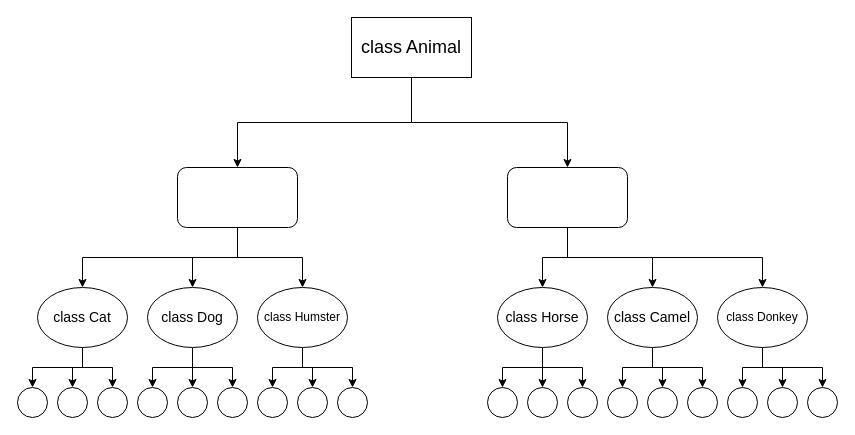
Some shapes in this 855 by 435 pixel diagram are drawn without their labels. Each missing label, with the centre of its shape:
class Pack_animal: [567,197]
class Pet: [237,197]
